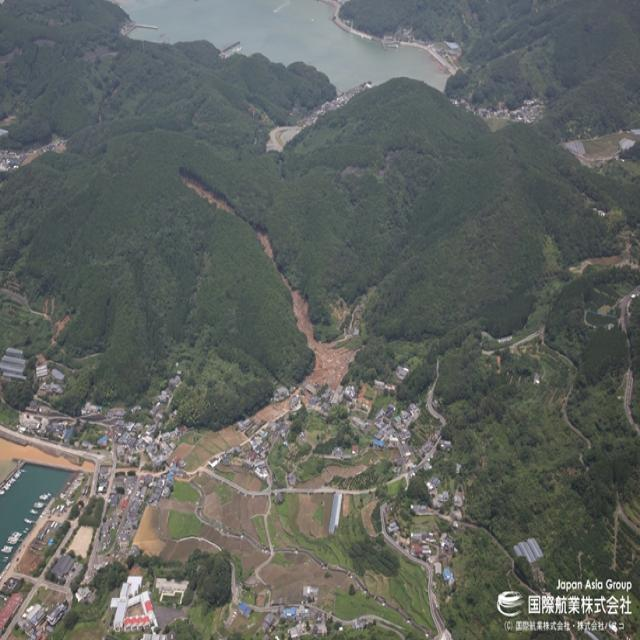Debris-flow: (282, 274, 354, 387), (0, 139, 66, 170), (181, 177, 235, 213), (256, 231, 275, 265)
